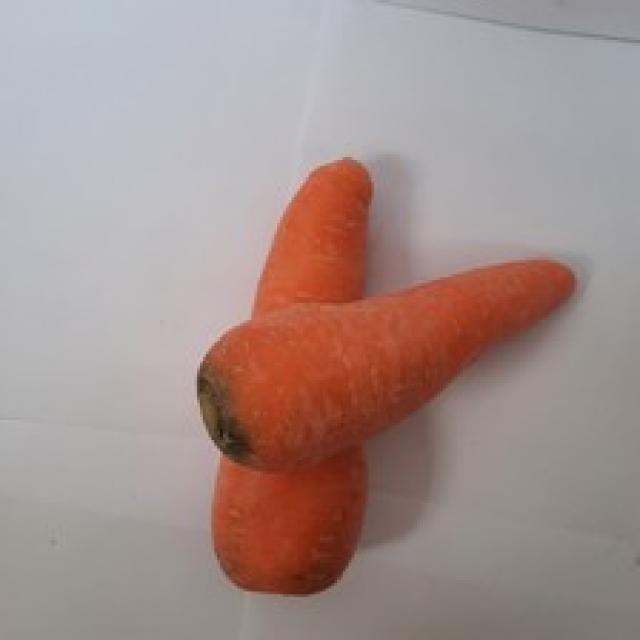Fresh_Carrot: (207, 125, 577, 612)
